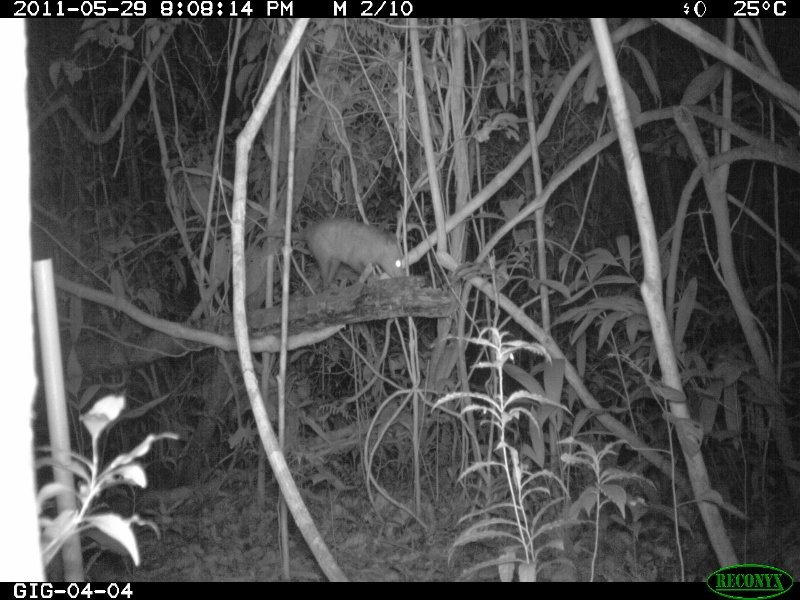opossum: (247, 220, 408, 287)
